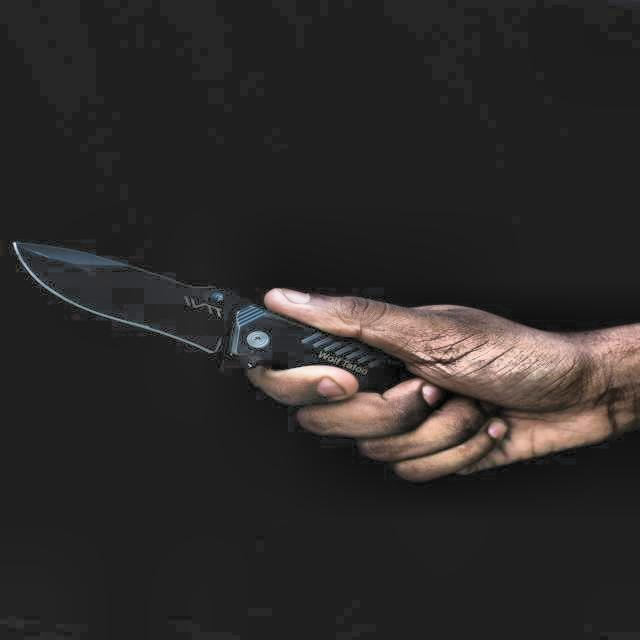knife: (11, 232, 461, 410)
